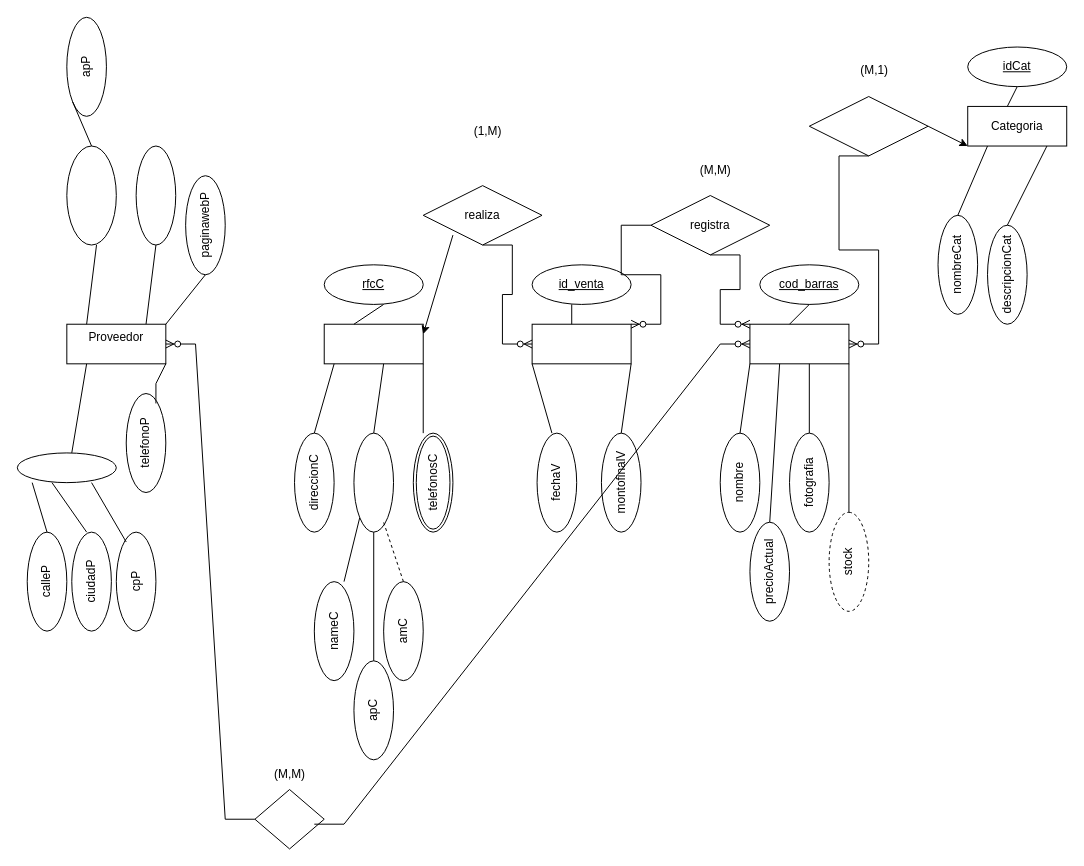
The diagram is 1084 pixels wide and 866 high, and some of its shapes have lost their labels. The centre of each missing label's shape, as x and y in pixels:
Cliente: [373,343]
direccionP: [66,467]
nombreC: [373,482]
nombreP: [91,195]
pertenece: [868,126]
Producto: [799,343]
Provee: [289,819]
rcfP: [155,195]
Venta: [581,343]
